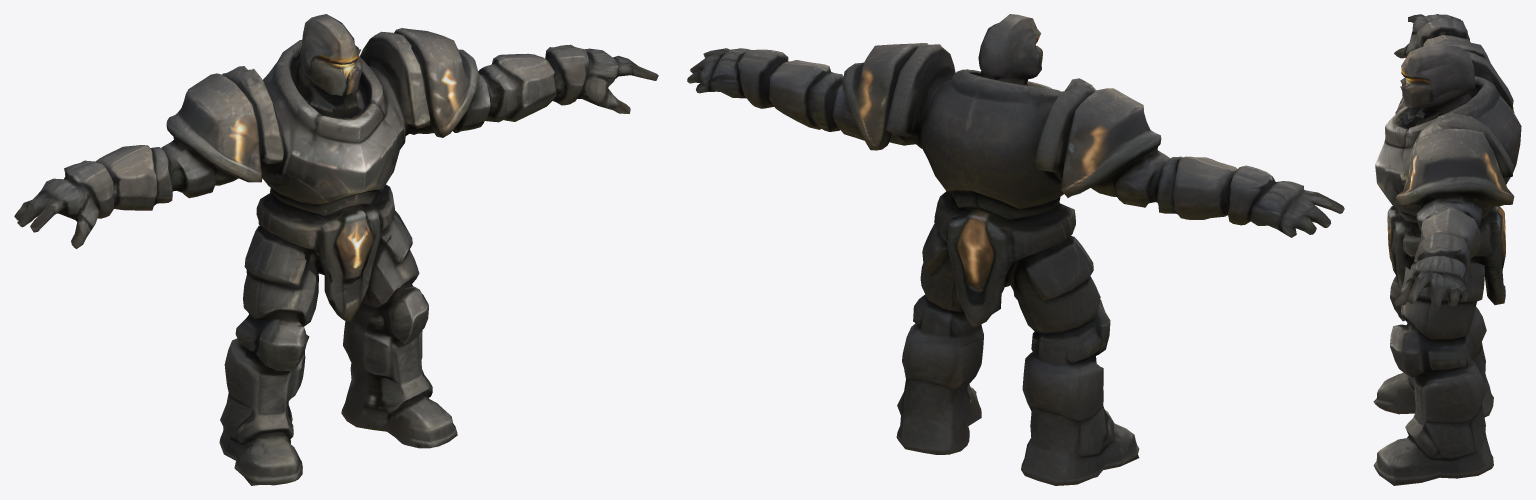
The model's file is base_basic_shaded.fbx.
3 renders of one model, left to right at view 1: azimuth 30°, elevation 25°; view 2: azimuth 150°, elevation 25°; view 3: azimuth 270°, elevation 25°, orthographic. The views are drawn at different scales.
Visible parts, largest first — view 1: model; view 2: model; view 3: model.
Boxes of the visible parts, x1=… form: model: x1=14, y1=14, x2=658, y2=485; model: x1=687, y1=14, x2=1344, y2=485; model: x1=1373, y1=14, x2=1521, y2=485.
Size of the model in its own units: 188 by 121 by 41.45.
